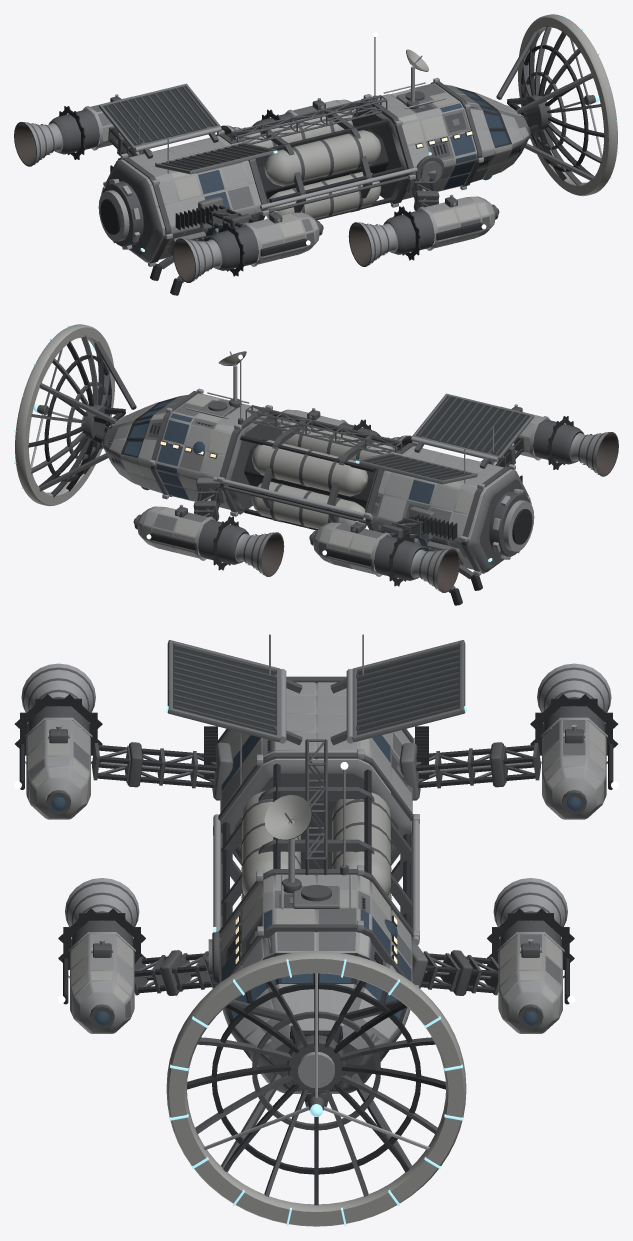
The model's file is lantern.glb.
3 views of the same model, one above another, from view 1: azimuth 30°, elevation 25°; view 2: azimuth 150°, elevation 25°; view 3: azimuth 270°, elevation 25° (orthographic). The views are drawn at different scales.
Visible parts, largest first — view 1: hull, projector, pod_rr, pod_fr, pod_rl, pod_fl; view 2: hull, projector, pod_rl, pod_fl, pod_rr, pod_fr; view 3: hull, projector, pod_rl, pod_rr, pod_fl, pod_fr.
Boxes of the visible parts, x1,y1,x2,y2 form: hull: [98, 37, 531, 295]; projector: [496, 14, 618, 196]; pod_rr: [173, 211, 323, 282]; pod_fr: [348, 194, 499, 266]; pod_rl: [14, 94, 131, 166]; pod_fl: [221, 98, 355, 140]; hull: [101, 351, 534, 605]; projector: [14, 324, 136, 506]; pod_rl: [309, 521, 459, 592]; pod_fl: [133, 504, 284, 576]; pod_rr: [501, 404, 618, 476]; pod_fr: [277, 408, 412, 450]; hull: [92, 634, 540, 1110]; projector: [166, 951, 466, 1226]; pod_rl: [530, 663, 618, 819]; pod_rr: [14, 663, 102, 819]; pod_fl: [487, 878, 575, 1033]; pod_fr: [57, 878, 145, 1033].
Bounding box in the file's own units: 5.95 × 2.26 × 3.9.
